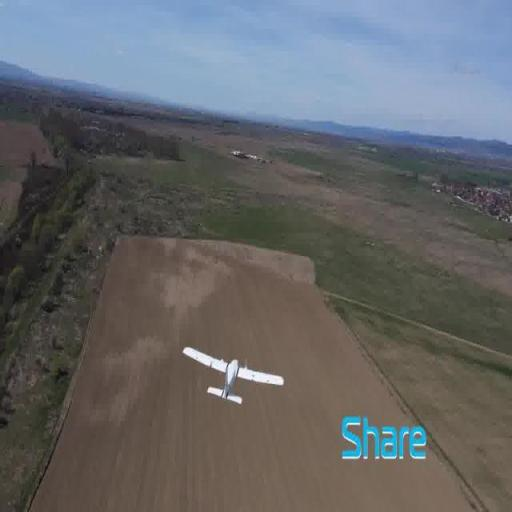uav: (182, 339, 288, 414)
